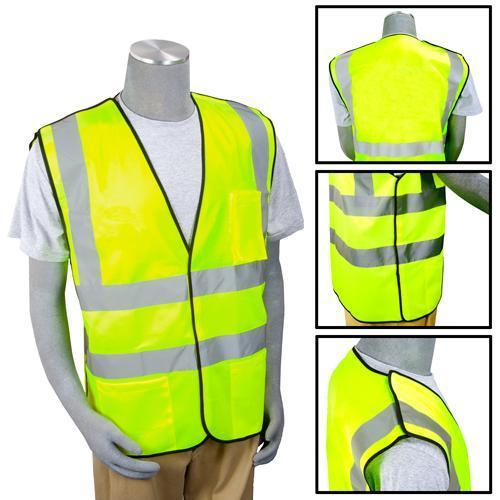vest: (34, 83, 281, 459), (322, 347, 472, 492), (325, 37, 470, 162), (328, 171, 446, 324)
